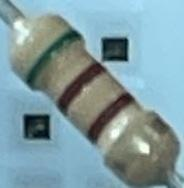Brown: (52, 60, 108, 117), (82, 89, 136, 145)
Green: (22, 25, 84, 89)
Side-Silver: (109, 115, 169, 177)
